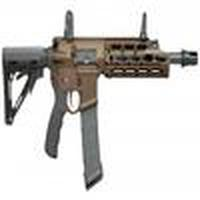gun: (2, 31, 199, 132)
